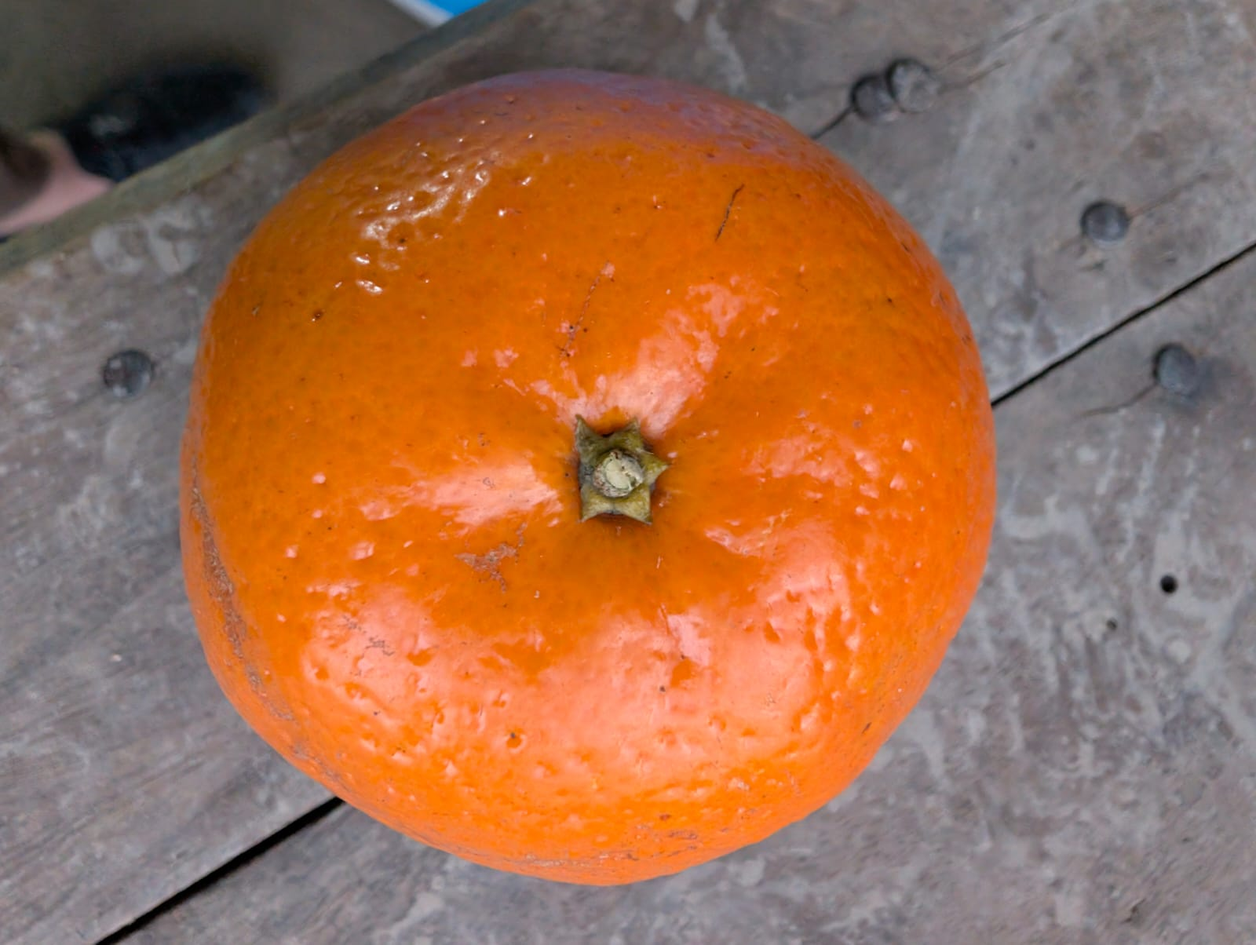orange: (245, 69, 1019, 861)
